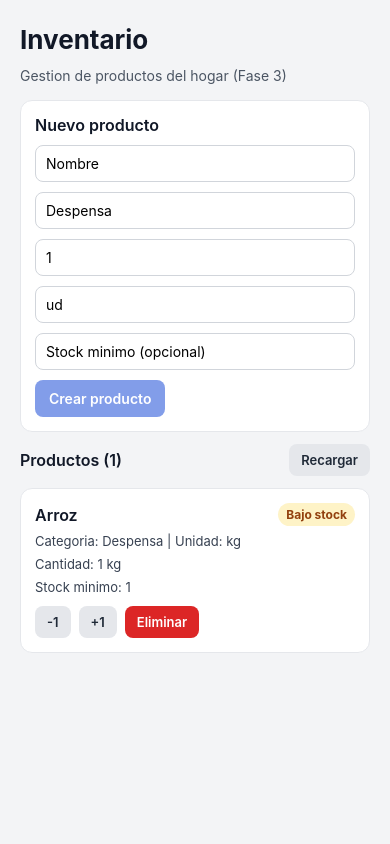
Test: InventoryScreen › incrementa y decrementa cantidad de producto
Expected: the text "Arroz" is shown, x1=35 y1=504 x2=78 y2=524
Click the element showing "+1". click: [98, 622]
box: x1=78 y1=606 x2=117 y2=638
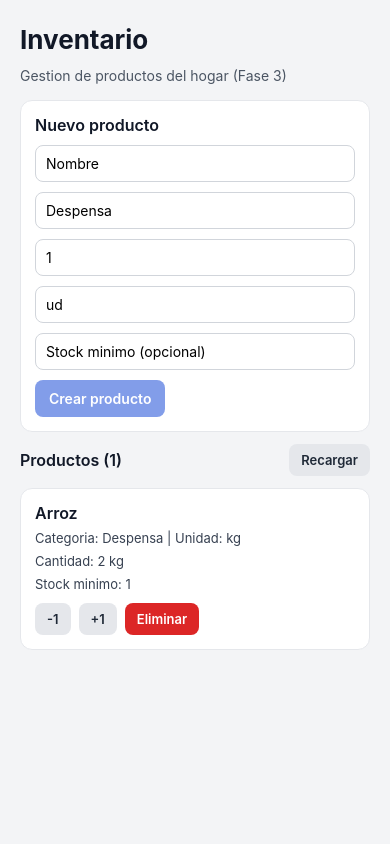
Expected: the text "Cantidad: 2 kg" is shown, x1=35 y1=553 x2=124 y2=569
Click the element showing "-1". click: [53, 619]
box: x1=35 y1=603 x2=70 y2=635
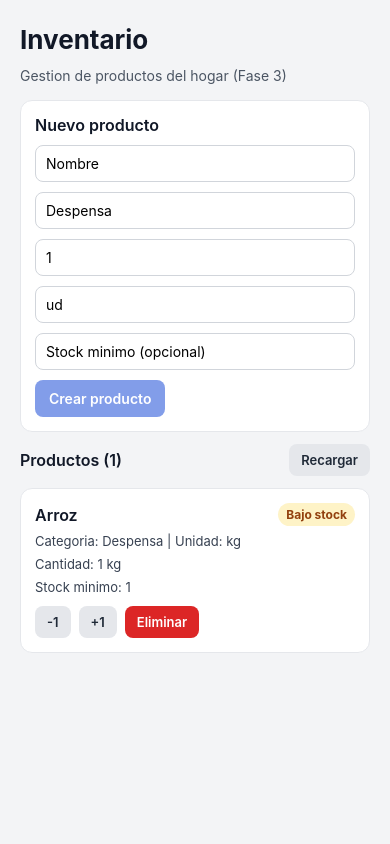
Expected: the text "Cantidad: 1 kg" is shown, x1=35 y1=556 x2=121 y2=572
